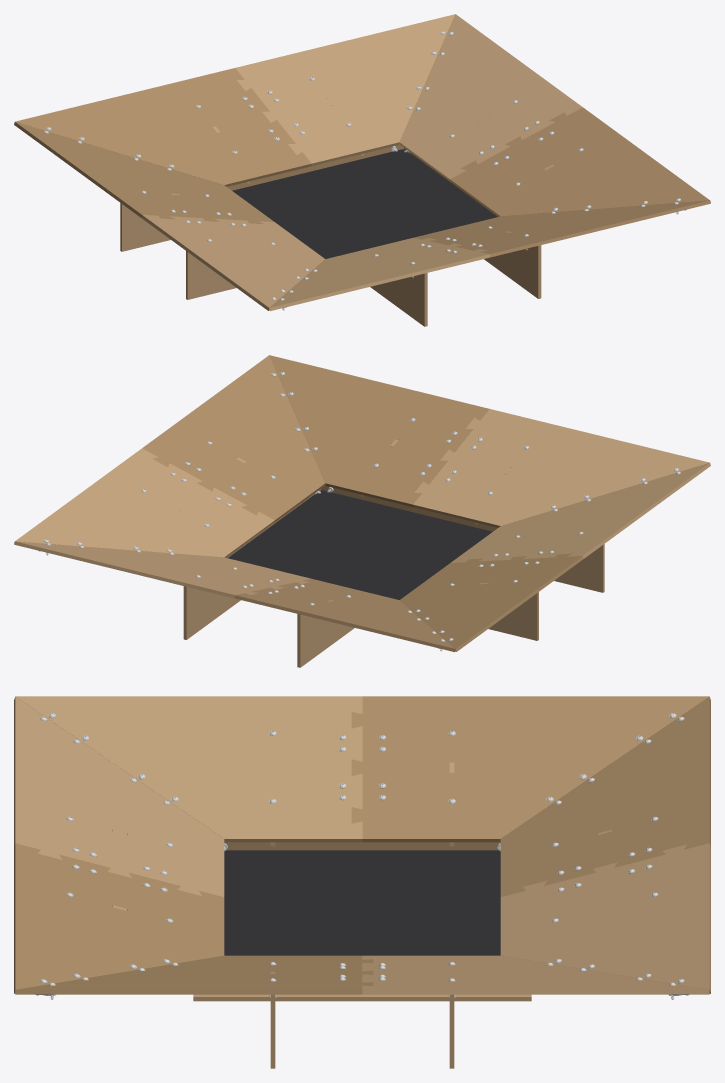
File: funnel-v5.glb
3 views of the same model, one above another, from view 1: azimuth 30°, elevation 25°; view 2: azimuth 150°, elevation 25°; view 3: azimuth 270°, elevation 25° (orthographic). The views are drawn at different scales.
Visible parts, largest first — view 1: Flap_B_N, Flap_B_P, QR_Plate, Flap_A_N, Flap_A_P, Flap_C_N, Flap_C_P, Flap_D_N, Flap_D_P, Rib_4b, Rib_4a, Rib_3a (+2 smaller); view 2: Flap_D_N, Flap_D_P, QR_Plate, Flap_A_N, Flap_A_P, Flap_C_N, Flap_C_P, Flap_B_N, Flap_B_P, Rib_2a, Rib_2b, Rib_3b (+2 smaller); view 3: Flap_C_N, Flap_C_P, QR_Plate, Flap_D_N, Flap_B_N, Flap_D_P, Flap_B_P, Flap_A_N, Flap_A_P, Floor, Wall_Short_A.
Boxes of the visible parts, bbox=[...] form: Flap_B_N: bbox=[235, 14, 455, 166]; Flap_B_P: bbox=[15, 68, 311, 186]; QR_Plate: bbox=[232, 149, 496, 258]; Flap_A_N: bbox=[450, 107, 710, 216]; Flap_A_P: bbox=[399, 14, 582, 181]; Flap_C_N: bbox=[14, 122, 273, 224]; Flap_C_P: bbox=[141, 215, 324, 310]; Flap_D_N: bbox=[269, 238, 490, 311]; Flap_D_P: bbox=[413, 200, 710, 257]; Rib_4b: bbox=[484, 231, 541, 298]; Rib_4a: bbox=[370, 259, 427, 326]; Rib_3a: bbox=[120, 193, 180, 251]; Flap_D_N: bbox=[413, 409, 709, 527]; Flap_D_P: bbox=[269, 355, 489, 507]; QR_Plate: bbox=[228, 490, 492, 599]; Flap_A_N: bbox=[142, 355, 325, 522]; Flap_A_P: bbox=[14, 448, 274, 557]; Flap_C_N: bbox=[400, 553, 583, 651]; Flap_C_P: bbox=[451, 463, 710, 562]; Flap_B_N: bbox=[14, 541, 311, 598]; Flap_B_P: bbox=[234, 579, 455, 652]; Rib_2a: bbox=[183, 572, 240, 639]; Rib_2b: bbox=[297, 600, 354, 667]; Rib_3b: bbox=[544, 534, 604, 592]; Flap_C_N: bbox=[351, 696, 709, 842]; Flap_C_P: bbox=[15, 696, 362, 842]; QR_Plate: bbox=[224, 850, 500, 955]; Flap_D_N: bbox=[14, 697, 224, 896]; Flap_B_N: bbox=[500, 843, 710, 993]; Flap_D_P: bbox=[14, 843, 224, 993]; Flap_B_P: bbox=[500, 697, 710, 896]; Flap_A_N: bbox=[15, 955, 373, 994]; Flap_A_P: bbox=[362, 955, 709, 994]; Floor: bbox=[193, 994, 531, 1001]; Wall_Short_A: bbox=[224, 842, 500, 850].
Size of the model in its own units: 0.889 by 0.1399 by 0.889.
